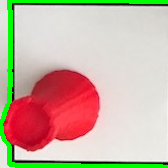Red Castle: (3, 65, 100, 154)
